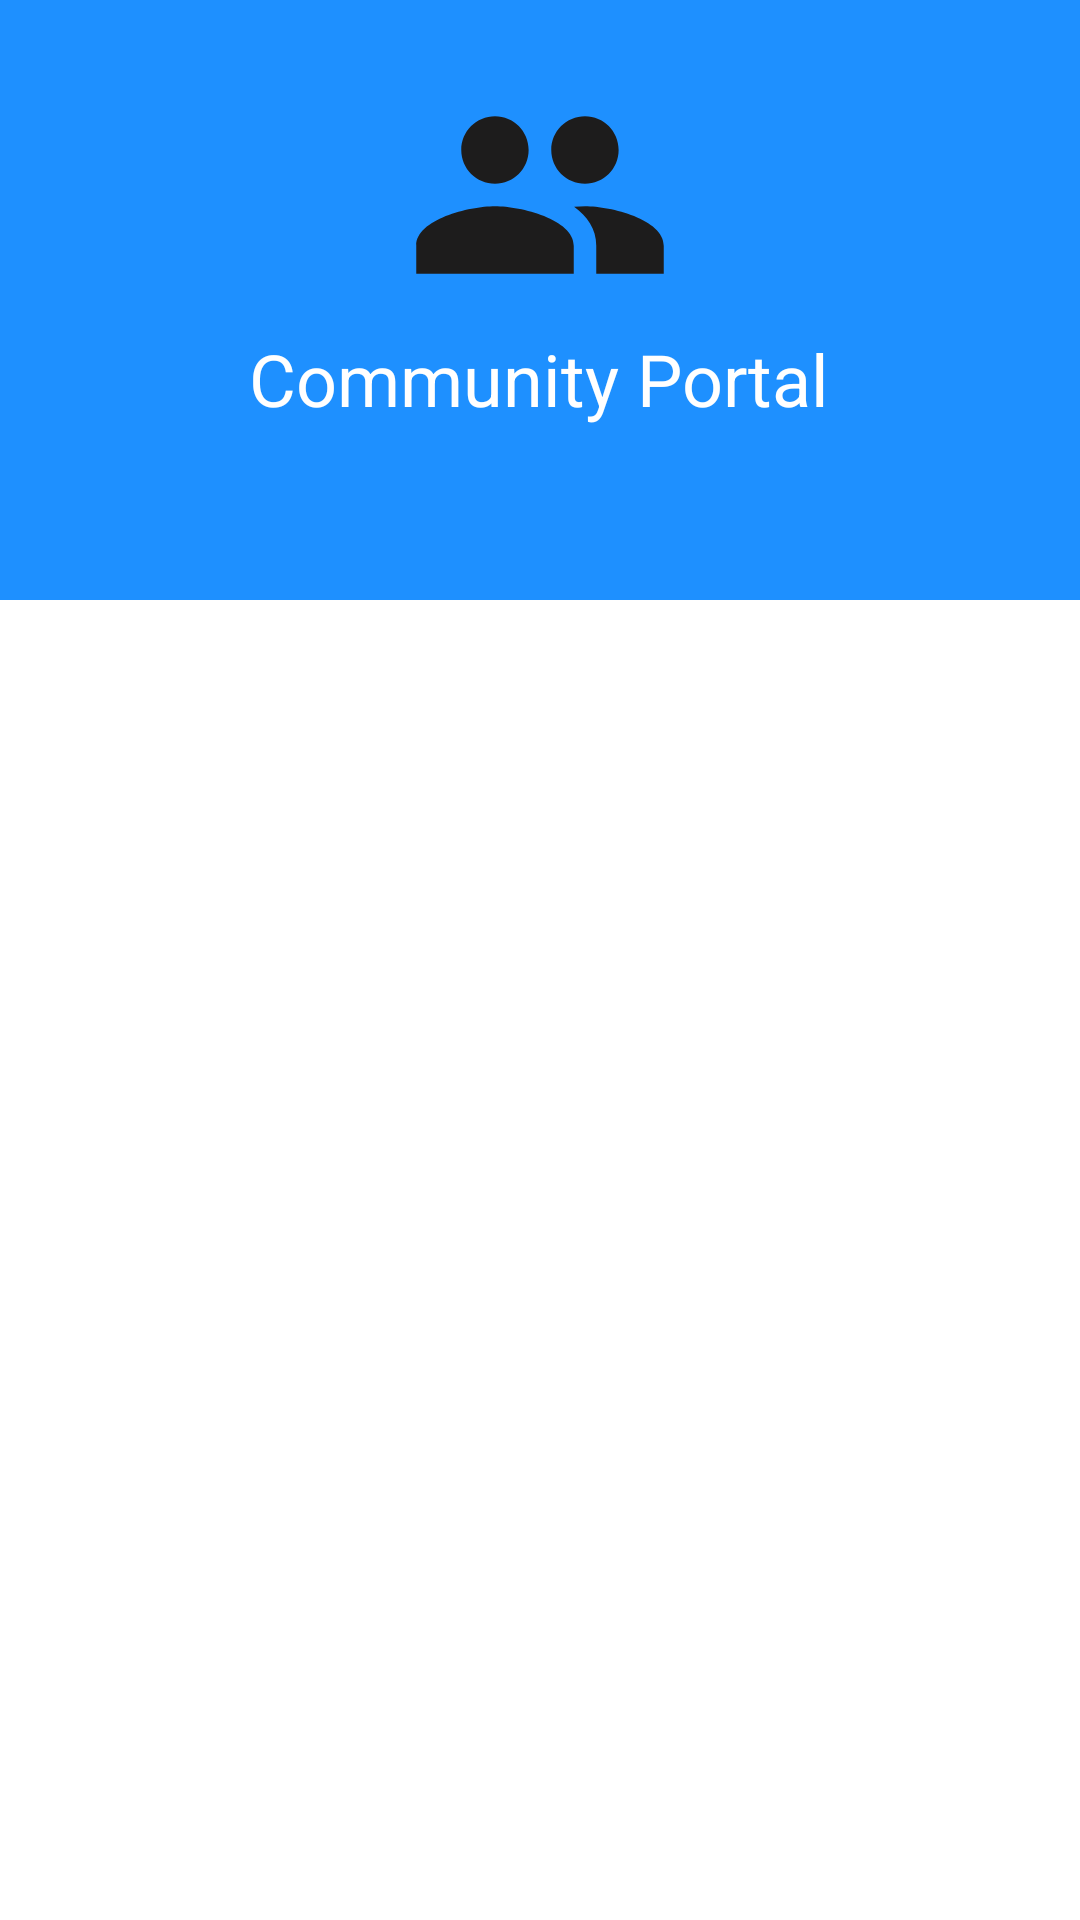

Named icons in this screenshot (1080 x 1920) and their bounding boxes, [x1=x1, y1=y1, x2=x2, y2=y2]:
people: [x1=416, y1=116, x2=664, y2=274]
